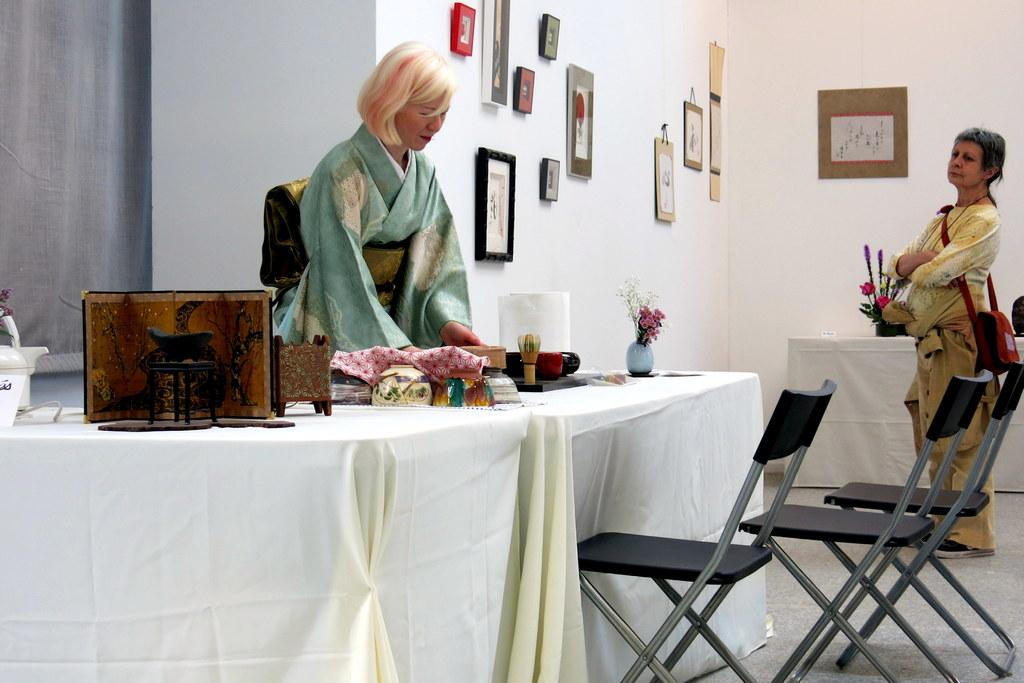Chair: (567, 377, 835, 682), (739, 365, 989, 680), (819, 357, 1023, 682)
